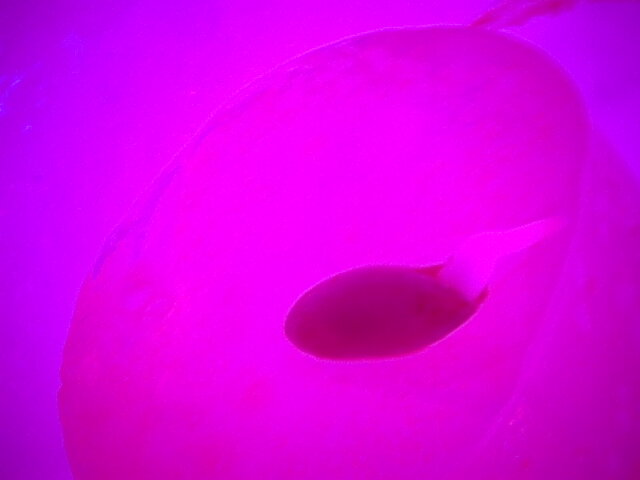sprout: (271, 220, 560, 367)
